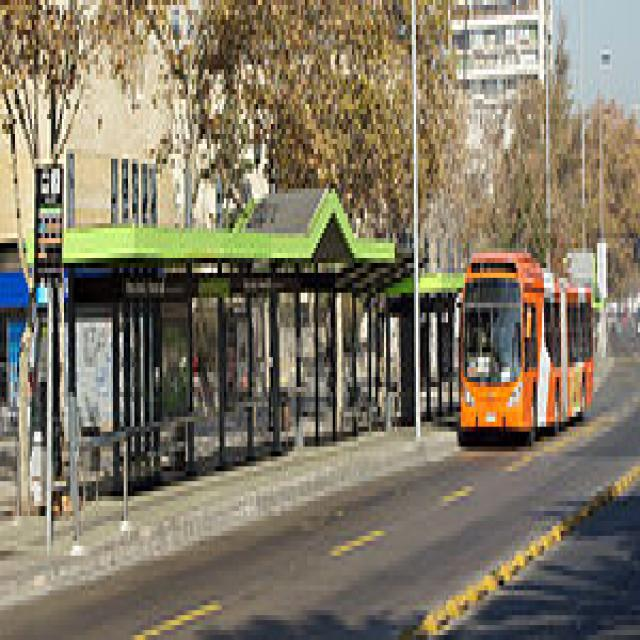AB: (457, 253, 598, 451)
